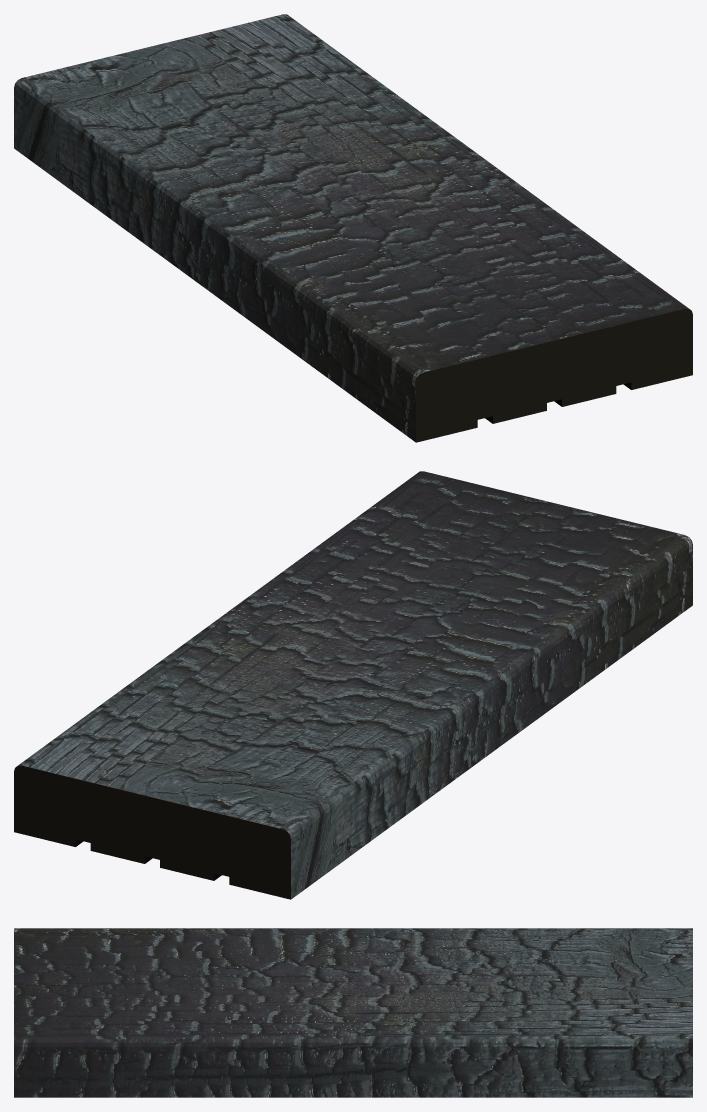
The model's file is thermo-terrace-carbon.glb.
The picture shows the model from 3 angles, top to bottom: view 1: azimuth 30°, elevation 25°; view 2: azimuth 150°, elevation 25°; view 3: azimuth 270°, elevation 25°; orthographic projection. The views are drawn at different scales.
Parts seen in each view (by area): view 1: Staciakampis; view 2: Staciakampis; view 3: Staciakampis.
Part boxes in pixels (left/top/right/bottom): Staciakampis: left=14, top=14, right=692, bottom=442; Staciakampis: left=14, top=471, right=692, bottom=899; Staciakampis: left=14, top=928, right=692, bottom=1097.
Size of the model in its own units: 0.0733 by 0.0173 by 0.1843.
3 materials, 1 textured.
